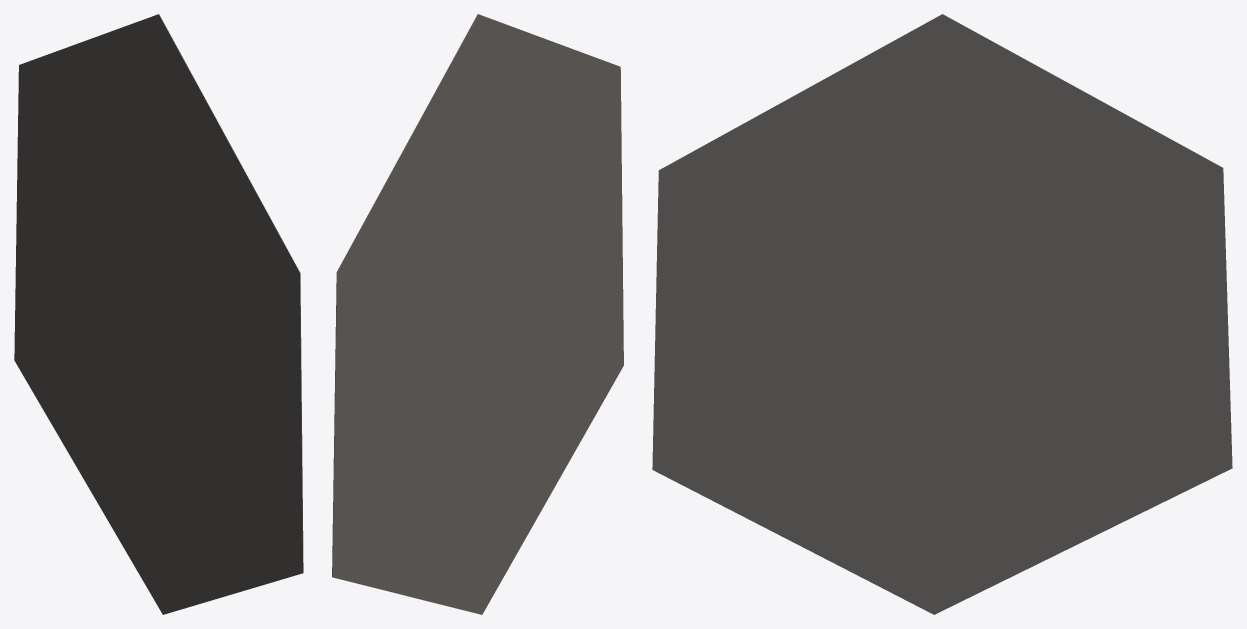
Rendered from akustikabsorber_Farbe1.glb.
The picture shows the model from 3 angles, left to right: view 1: azimuth 30°, elevation 25°; view 2: azimuth 150°, elevation 25°; view 3: azimuth 270°, elevation 25°; orthographic projection.
Visible parts, largest first — view 1: Plane.001; view 2: Plane.001; view 3: Plane.001.
Part boxes in pixels (x1,y1,x2,y2): Plane.001: (14,14,303,614); Plane.001: (332,14,623,614); Plane.001: (652,14,1232,614).
Size of the model in its own units: 0.00284 by 2.76 by 2.41.
1 material, 1 textured.
